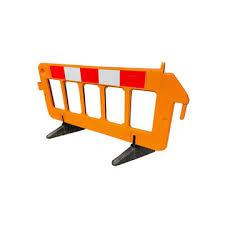barrier: (36, 60, 191, 170)
